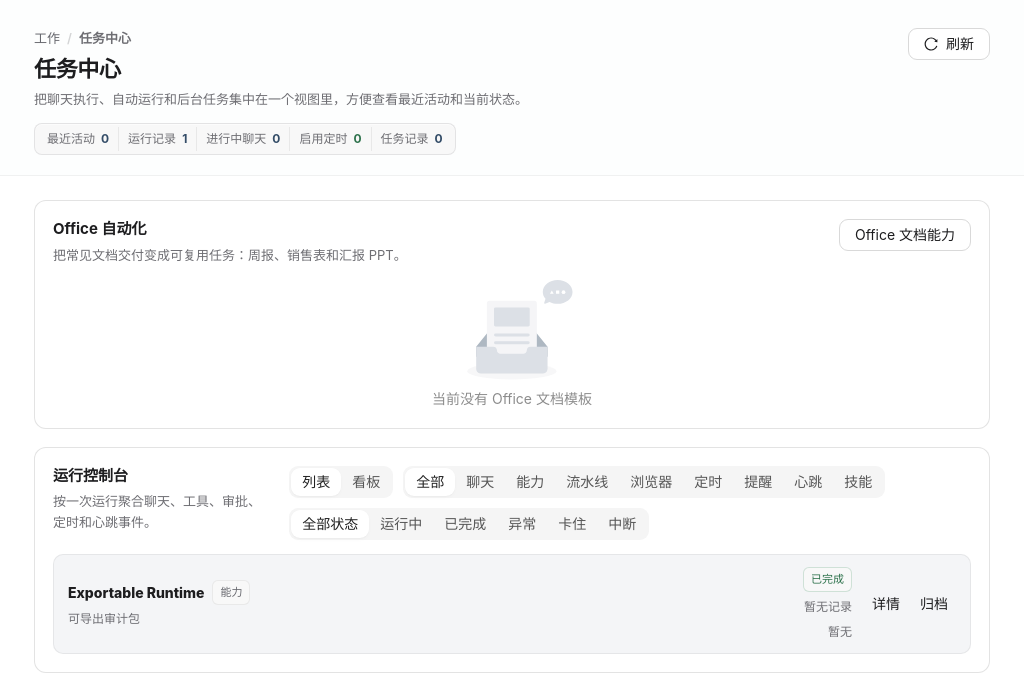
Scenario: TaskCenterPage › exports a runtime run with approval and shows retention impact
The image size is (1024, 684).
Expected: the element "运行控制台" is shown, [34,447,990,673]
Click the button "Exportable Runtime 能力 可导出审计包".
click(136, 592)  # box [68,580,791,628]
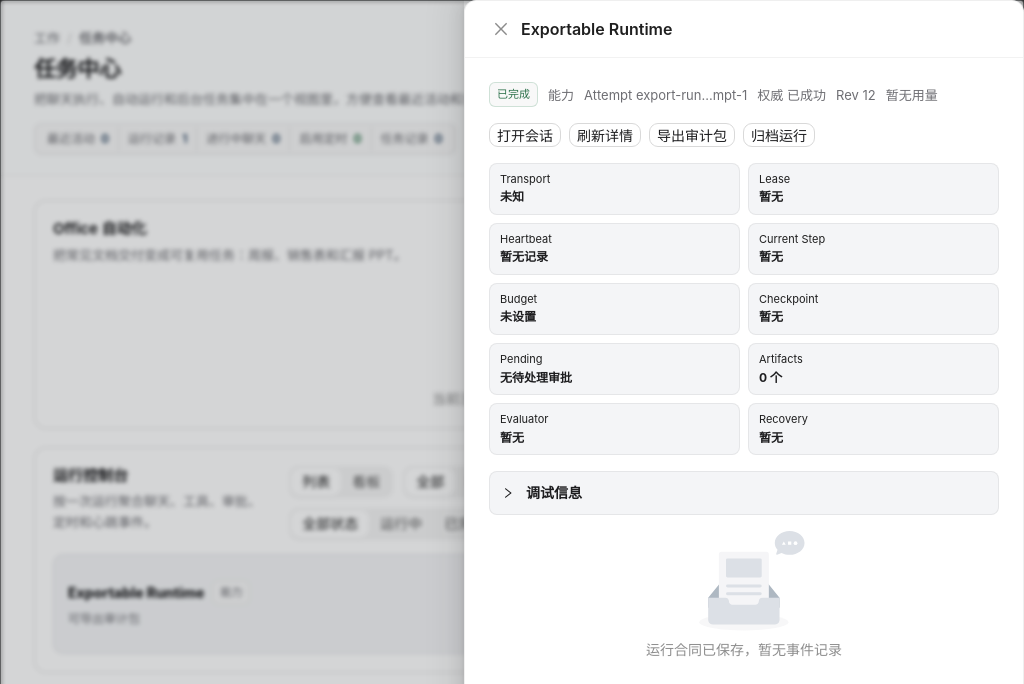
Click the button "导出审计包".
click(692, 135)  # box [649,123,735,147]
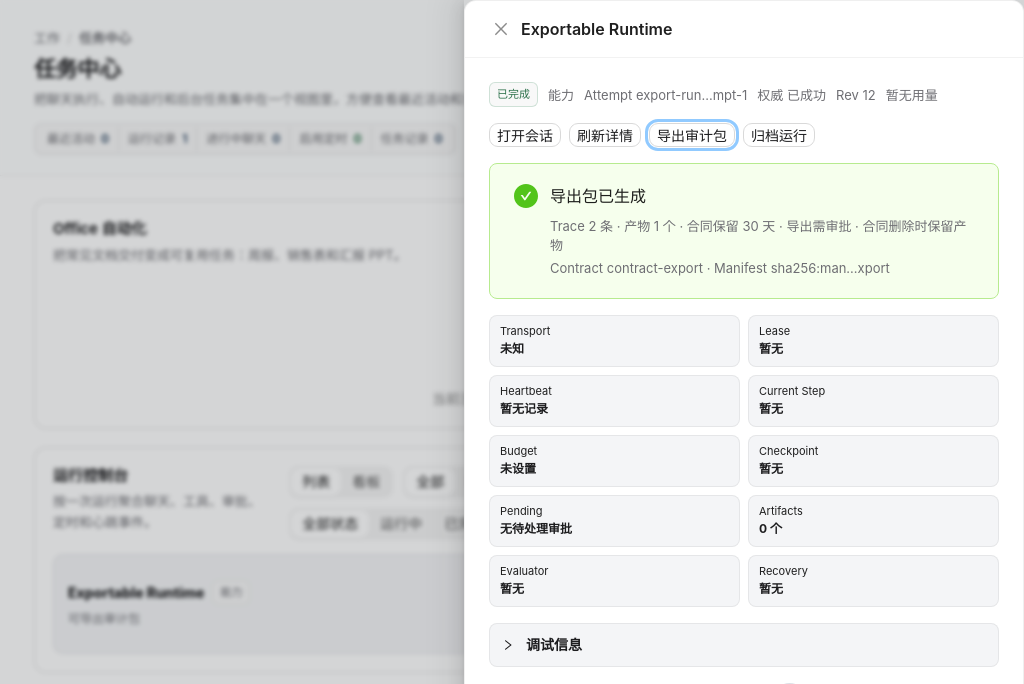
Now the text "导出包已生成" is shown, box [550,186,646,206]
Now the text "Trace 2 条 · 产物 1 个 · 合同保留 30 天 · 导出需审批 · 合同删除时保留产物" is shown, box [550,217,974,255]
Now the text "Contract contract-export · Manifest sha256:man...xport" is shown, box [550,260,890,276]
